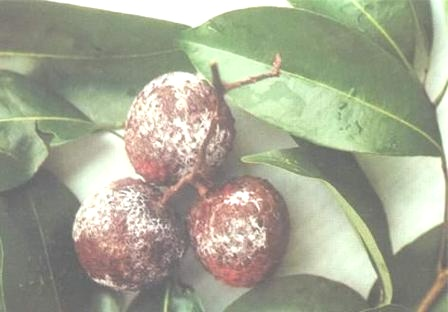Frost_Blight: (131, 36, 227, 173), (82, 184, 176, 289), (193, 192, 267, 264)
